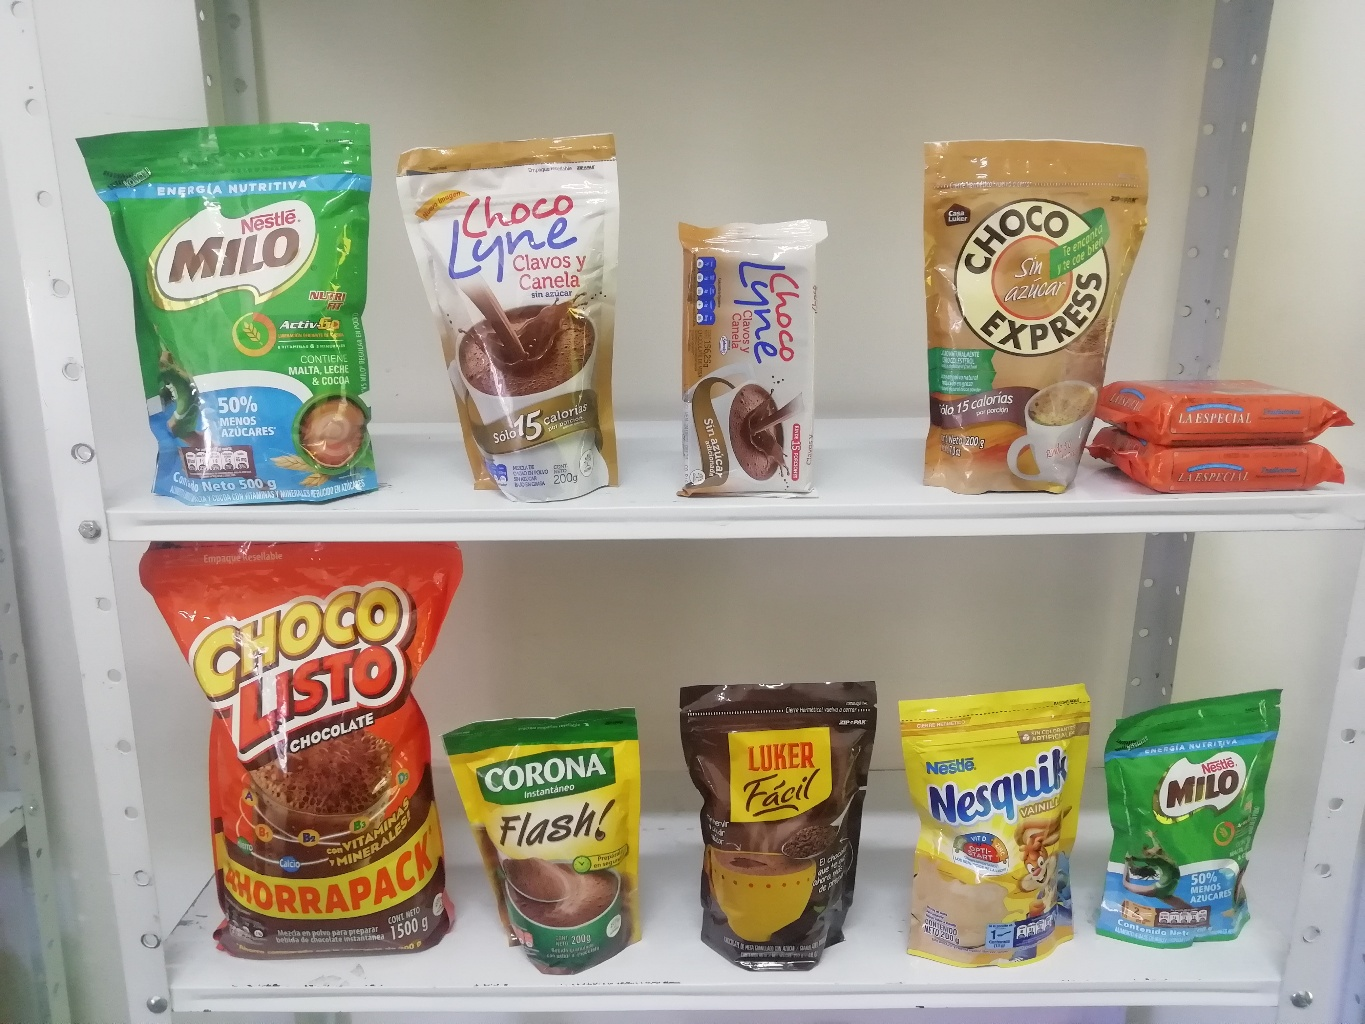COL0170103DYP1,500: (136, 537, 479, 963)
COL0170205DYP20000: (1105, 670, 1286, 957)
COL0170205DYP50000: (69, 124, 393, 507)
COL0170306DYP20000: (887, 675, 1106, 982)
